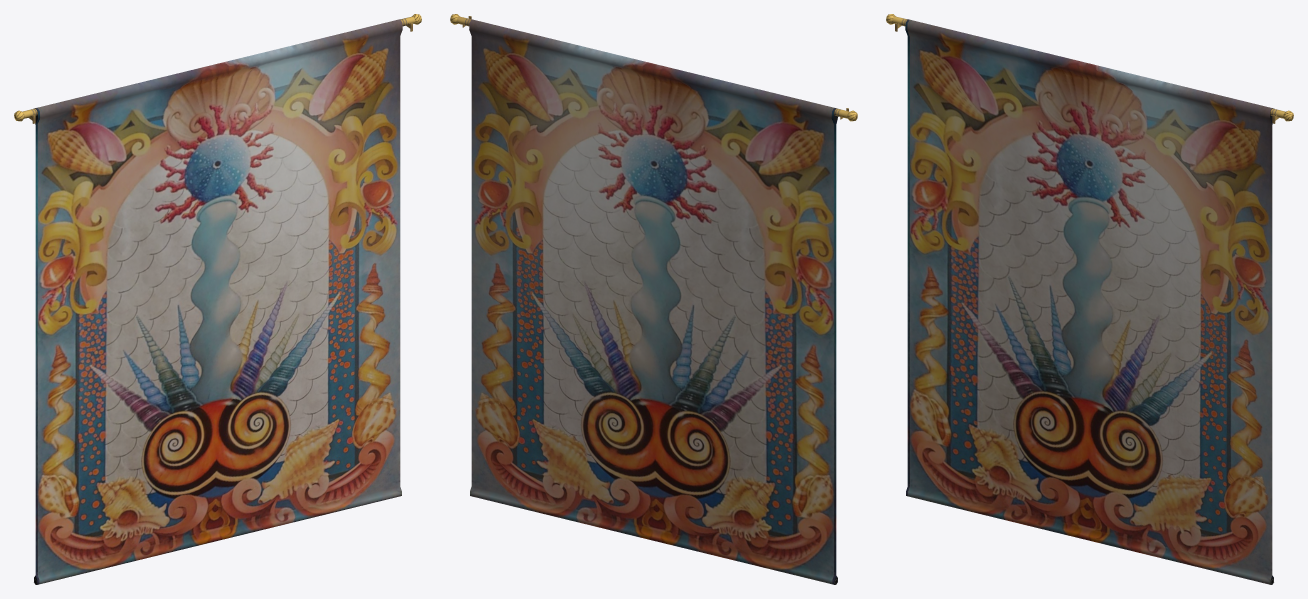
File: ScrollPainting01.fbx
3 views of the same model, side by side, from view 1: azimuth 30°, elevation 25°; view 2: azimuth 150°, elevation 25°; view 3: azimuth 330°, elevation 25° (orthographic).
Visible parts, largest first — view 1: ScrollPainting01; view 2: ScrollPainting01; view 3: ScrollPainting01.
Part boxes in pixels (x1=…): ScrollPainting01: x1=14, y1=14, x2=421, y2=584; ScrollPainting01: x1=450, y1=14, x2=857, y2=584; ScrollPainting01: x1=886, y1=14, x2=1293, y2=584.
Size of the model in its own units: 312 by 351 by 10.5.
